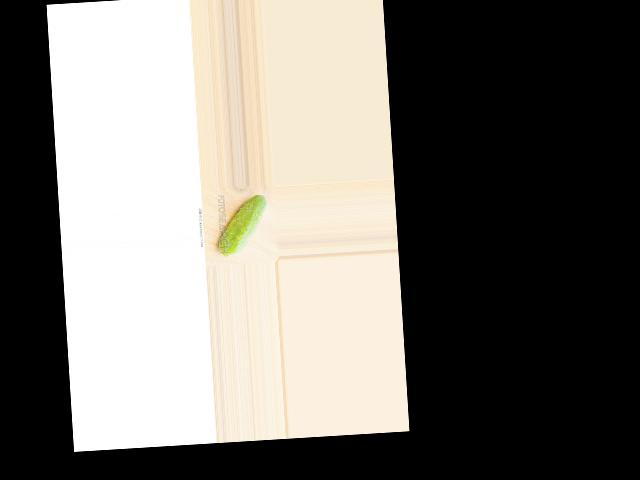cucumber: (215, 194, 270, 258)
